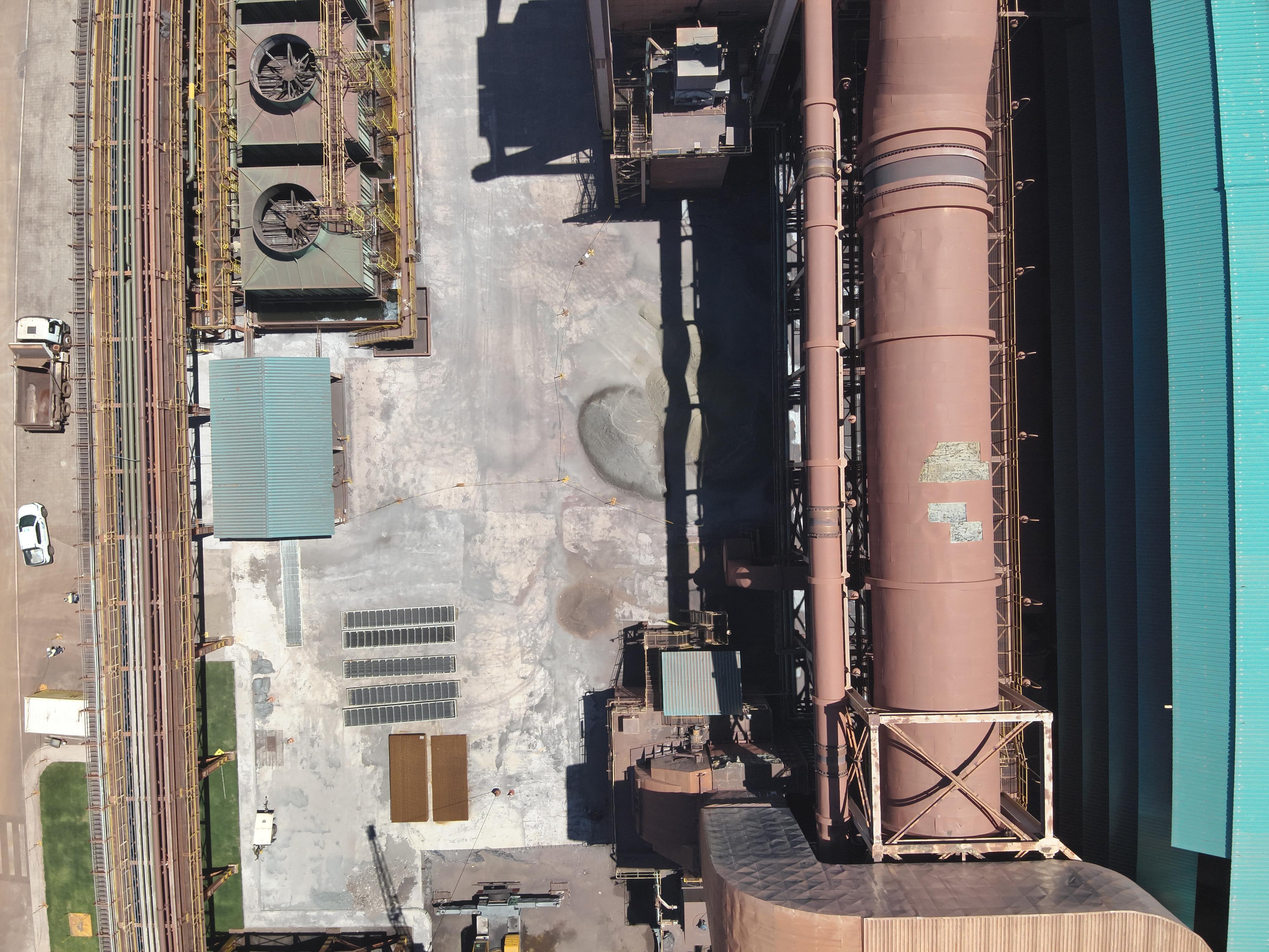Failures: (921, 439, 992, 487), (925, 501, 985, 545), (708, 752, 800, 780)
